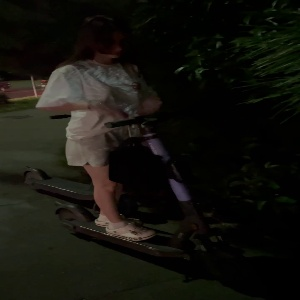human on a scooter: (32, 15, 245, 276)
